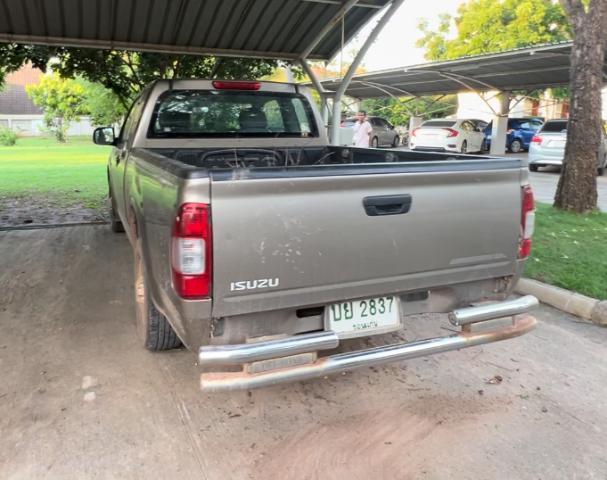pickup-truck: (85, 78, 539, 389)
